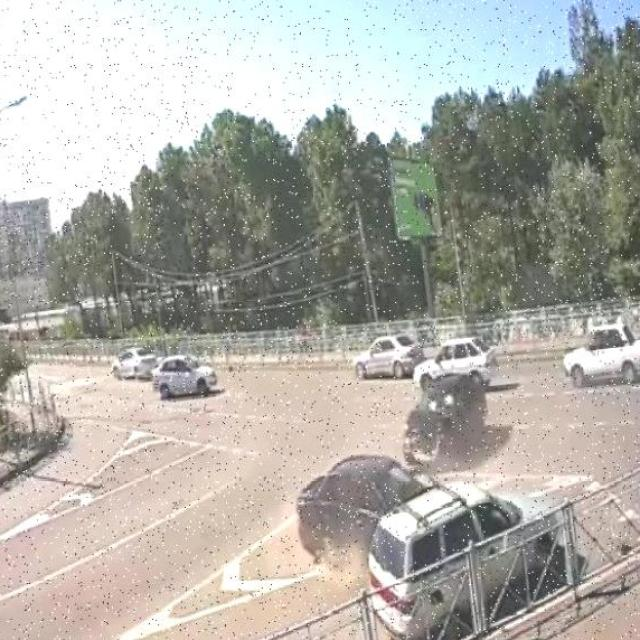accident: (325, 446, 505, 610)
